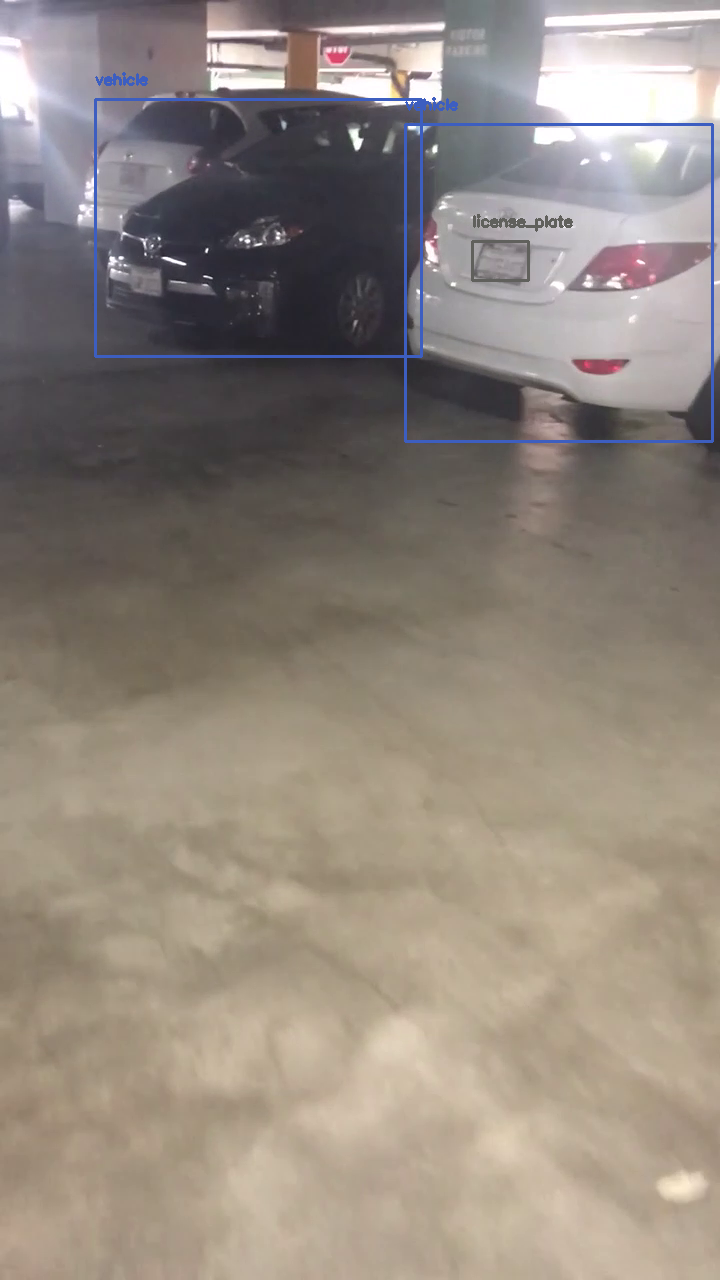license_plate: (472, 241, 528, 280)
vehicle: (405, 124, 712, 441), (95, 99, 421, 356)
